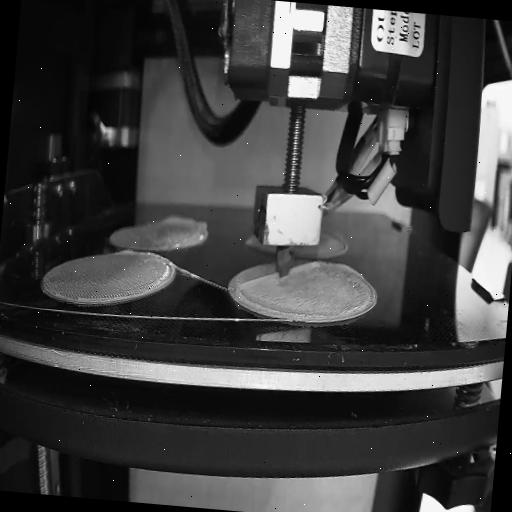over_extrusion: (161, 214, 215, 236), (240, 268, 278, 294), (336, 261, 365, 282), (292, 258, 322, 278), (332, 228, 350, 258), (115, 248, 137, 258)
